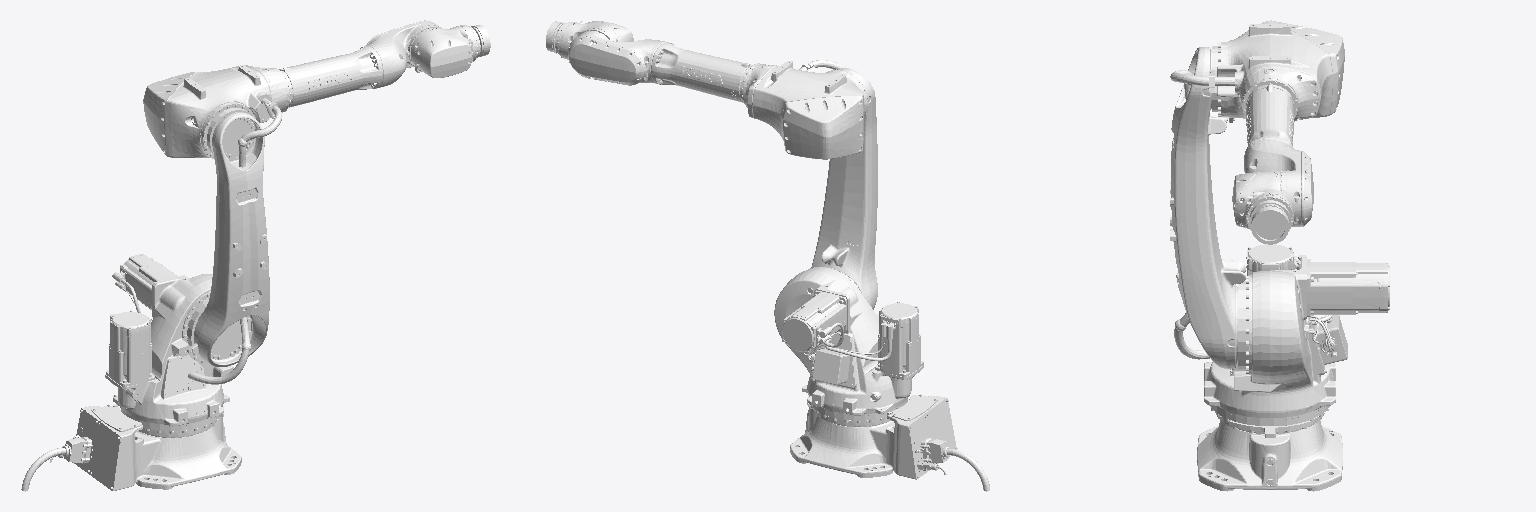
robot.urdf — kr70:
<?xml version="1.0" encoding="utf-8"?>
<!-- This URDF was automatically created by SolidWorks to URDF Exporter! Originally created by [author] ([email redacted]) 
     Commit Version: 1.6.0-4-g7f85cfe  Build Version: 1.6.7995.38578
     For more information, please see http://wiki.ros.org/sw_urdf_exporter -->
<robot
  name="kr70">
  <link
    name="base_link">
    <inertial>
      <origin
        xyz="-0.0881347670550834 0.00158139499600708 0.0871240753692117"
        rpy="0 0 0" />
      <mass
        value="31.0521408716295" />
      <inertia
        ixx="10"
        ixy="0.0"
        ixz="0.0"
        iyy="10"
        iyz="0.0"
        izz="10" />
    </inertial>
    <visual>
      <origin
        xyz="0 0 0"
        rpy="0 0 0" />
      <geometry>
        <mesh
          filename="package://kr70/meshes/base_link.STL" />
      </geometry>
      <material
        name="">
        <color
          rgba="1 1 1 1" />
      </material>
    </visual>
    <collision>
      <origin
        xyz="0 0 0"
        rpy="0 0 0" />
      <geometry>
        <mesh
          filename="package://kr70/meshes/base_link.STL" />
      </geometry>
    </collision>
  </link>
  <link
    name="link1">
    <inertial>
      <origin
        xyz="0.040209 0.031506 0.26173"
        rpy="0 0 0" />
      <mass
        value="67.108" />
      <inertia
        ixx="10"
        ixy="0.0"
        ixz="0.0"
        iyy="10"
        iyz="0.0"
        izz="10" />
    </inertial>
    <visual>
      <origin
        xyz="0 0 0"
        rpy="0 0 0" />
      <geometry>
        <mesh
          filename="package://kr70/meshes/link1.STL" />
      </geometry>
      <material
        name="">
        <color
          rgba="1 1 1 1" />
      </material>
    </visual>
    <collision>
      <origin
        xyz="0 0 0"
        rpy="0 0 0" />
      <geometry>
        <mesh
          filename="package://kr70/meshes/link1.STL" />
      </geometry>
    </collision>
  </link>
  <joint
    name="joint1"
    type="revolute">
    <origin
      xyz="0 0 0.185"
      rpy="0 0 0" />
    <parent
      link="base_link" />
    <child
      link="link1" />
    <axis
      xyz="0 0 -1" />
    <limit
      lower="-3.2288"
      upper="3.2288"
      effort="100"
      velocity="1" />
  </joint>
  <link
    name="link2">
    <inertial>
      <origin
        xyz="0.0026974 -0.40156 -0.12584"
        rpy="0 0 0" />
      <mass
        value="20.101" />
      <inertia
        ixx="10"
        ixy="0.0"
        ixz="0.0"
        iyy="10"
        iyz="0.0"
        izz="10" />
    </inertial>
    <visual>
      <origin
        xyz="0 0 0"
        rpy="0 0 0" />
      <geometry>
        <mesh
          filename="package://kr70/meshes/link2.STL" />
      </geometry>
      <material
        name="">
        <color
          rgba="1 1 1 1" />
      </material>
    </visual>
    <collision>
      <origin
        xyz="0 0 0"
        rpy="0 0 0" />
      <geometry>
        <mesh
          filename="package://kr70/meshes/link2.STL" />
      </geometry>
    </collision>
  </link>
  <joint
    name="joint2"
    type="revolute">
    <origin
      xyz="0.174999999999999 -0.105 0.39"
      rpy="-1.5707963267949 0 0" />
    <parent
      link="link1" />
    <child
      link="link2" />
    <axis
      xyz="0 0 -1" />
    <limit
      lower="-3.0543"
      upper="1.0472"
      effort="100"
      velocity="1" />
  </joint>
  <link
    name="link3">
    <inertial>
      <origin
        xyz="0.0305177073324538 0.0162382482135712 -0.198548345191562"
        rpy="0 0 0" />
      <mass
        value="36.6784623759749" />
      <inertia
        ixx="10"
        ixy="0.0"
        ixz="0.0"
        iyy="10"
        iyz="0.0"
        izz="10" />
    </inertial>
    <visual>
      <origin
        xyz="0 0 0"
        rpy="0 0 0" />
      <geometry>
        <mesh
          filename="package://kr70/meshes/link3.STL" />
      </geometry>
      <material
        name="">
        <color
          rgba="1 1 1 1" />
      </material>
    </visual>
    <collision>
      <origin
        xyz="0 0 0"
        rpy="0 0 0" />
      <geometry>
        <mesh
          filename="package://kr70/meshes/link3.STL" />
      </geometry>
    </collision>
  </link>
  <joint
    name="joint3"
    type="revolute">
    <origin
      xyz="0 -0.89 -0.07125"
      rpy="3.1416 0 0" />
    <parent
      link="link2" />
    <child
      link="link3" />
    <axis
      xyz="0 0 1" />
    <limit
      lower="-2.0944"
      upper="2.8798"
      effort="100"
      velocity="1" />
  </joint>
  <link
    name="link4">
    <inertial>
      <origin
        xyz="0.028053 -6.015E-05 0.41608"
        rpy="0 0 0" />
      <mass
        value="15.154" />
      <inertia
        ixx="10"
        ixy="0.0"
        ixz="0.0"
        iyy="10"
        iyz="0.0"
        izz="10" />
    </inertial>
    <visual>
      <origin
        xyz="0 0 0"
        rpy="0 0 0" />
      <geometry>
        <mesh
          filename="package://kr70/meshes/link4.STL" />
      </geometry>
      <material
        name="">
        <color
          rgba="1 1 1 1" />
      </material>
    </visual>
    <collision>
      <origin
        xyz="0 0 0"
        rpy="0 0 0" />
      <geometry>
        <mesh
          filename="package://kr70/meshes/link4.STL" />
      </geometry>
    </collision>
  </link>
  <joint
    name="joint4"
    type="revolute">
    <origin
      xyz="0.31088 0.05 -0.17625"
      rpy="0 1.5708 0" />
    <parent
      link="link3" />
    <child
      link="link4" />
    <axis
      xyz="0 0 1" />
    <limit
      lower="-3.14"
      upper="3.14"
      effort="100"
      velocity="1" />
  </joint>
  <link
    name="link5">
    <inertial>
      <origin
        xyz="-0.034814 -7.775E-05 -0.078492"
        rpy="0 0 0" />
      <mass
        value="5.175" />
      <inertia
        ixx="10"
        ixy="0.0"
        ixz="0.0"
        iyy="10"
        iyz="0.0"
        izz="10" />
    </inertial>
    <visual>
      <origin
        xyz="0 0 0"
        rpy="0 0 0" />
      <geometry>
        <mesh
          filename="package://kr70/meshes/link5.STL" />
      </geometry>
      <material
        name="">
        <color
          rgba="1 1 1 1" />
      </material>
    </visual>
    <collision>
      <origin
        xyz="0 0 0"
        rpy="0 0 0" />
      <geometry>
        <mesh
          filename="package://kr70/meshes/link5.STL" />
      </geometry>
    </collision>
  </link>
  <joint
    name="joint5"
    type="revolute">
    <origin
      xyz="0.0451250000000001 0 0.724125"
      rpy="0 1.5707963267949 0" />
    <parent
      link="link4" />
    <child
      link="link5" />
    <axis
      xyz="0 0 -1" />
    <limit
      lower="-2.1817"
      upper="2.1817"
      effort="100"
      velocity="1" />
  </joint>
  <link
    name="link6">
    <inertial>
      <origin
        xyz="-2.9716E-06 -4.1515E-05 -0.017567"
        rpy="0 0 0" />
      <mass
        value="0.36297" />
      <inertia
        ixx="10"
        ixy="0.0"
        ixz="0.0"
        iyy="10"
        iyz="0.0"
        izz="10" />
    </inertial>
    <visual>
      <origin
        xyz="0 0 0"
        rpy="0 0 0" />
      <geometry>
        <mesh
          filename="package://kr70/meshes/link6.STL" />
      </geometry>
      <material
        name="">
        <color
          rgba="1 1 1 1" />
      </material>
    </visual>
    <collision>
      <origin
        xyz="0 0 0"
        rpy="0 0 0" />
      <geometry>
        <mesh
          filename="package://kr70/meshes/link6.STL" />
      </geometry>
    </collision>
  </link>
  <joint
    name="joint6"
    type="revolute">
    <origin
      xyz="-0.184 0 -0.0451249999999783"
      rpy="3.14159265358979 -1.5707963267949 0" />
    <parent
      link="link5" />
    <child
      link="link6" />
    <axis
      xyz="0 0 1" />
    <limit
      lower="-6.10865"
      upper="6.10865"
      effort="100"
      velocity="1" />
  </joint>
</robot>

--- Render facts (derived) ---
The picture shows the robot from 3 angles, left to right: view 1: azimuth 30°, elevation 25°; view 2: azimuth 150°, elevation 25°; view 3: azimuth 270°, elevation 25°; orthographic projection.
Robot: kr70 — 7 links, 6 joints (6 revolute); root link base_link; default pose: all joints at 0.
Links seen in each view (by area): view 1: link1, link2, base_link, link3, link4, link5; view 2: link1, link3, base_link, link2, link4, link5; view 3: link1, link2, link3, base_link, link4, link5, link6.
Boxes of the visible links, <box> form: link1: <box>105,254,250,437</box>; link2: <box>187,112,269,366</box>; base_link: <box>21,404,241,491</box>; link3: <box>143,65,292,159</box>; link4: <box>279,20,440,107</box>; link5: <box>411,25,480,77</box>; link1: <box>774,267,923,426</box>; link3: <box>740,60,868,159</box>; base_link: <box>790,394,989,491</box>; link2: <box>811,68,877,313</box>; link4: <box>568,30,752,102</box>; link5: <box>555,21,633,59</box>; link1: <box>1174,244,1389,437</box>; link2: <box>1170,47,1245,368</box>; link3: <box>1170,20,1344,122</box>; base_link: <box>1197,420,1342,491</box>; link4: <box>1244,83,1313,226</box>; link5: <box>1232,171,1293,230</box>; link6: <box>1251,205,1289,244</box>.
Size in the robot's own frame: 2.09 by 0.7233 by 1.64 metres.
7 mesh visuals loaded from 7 distinct referenced files (7 binary STL).